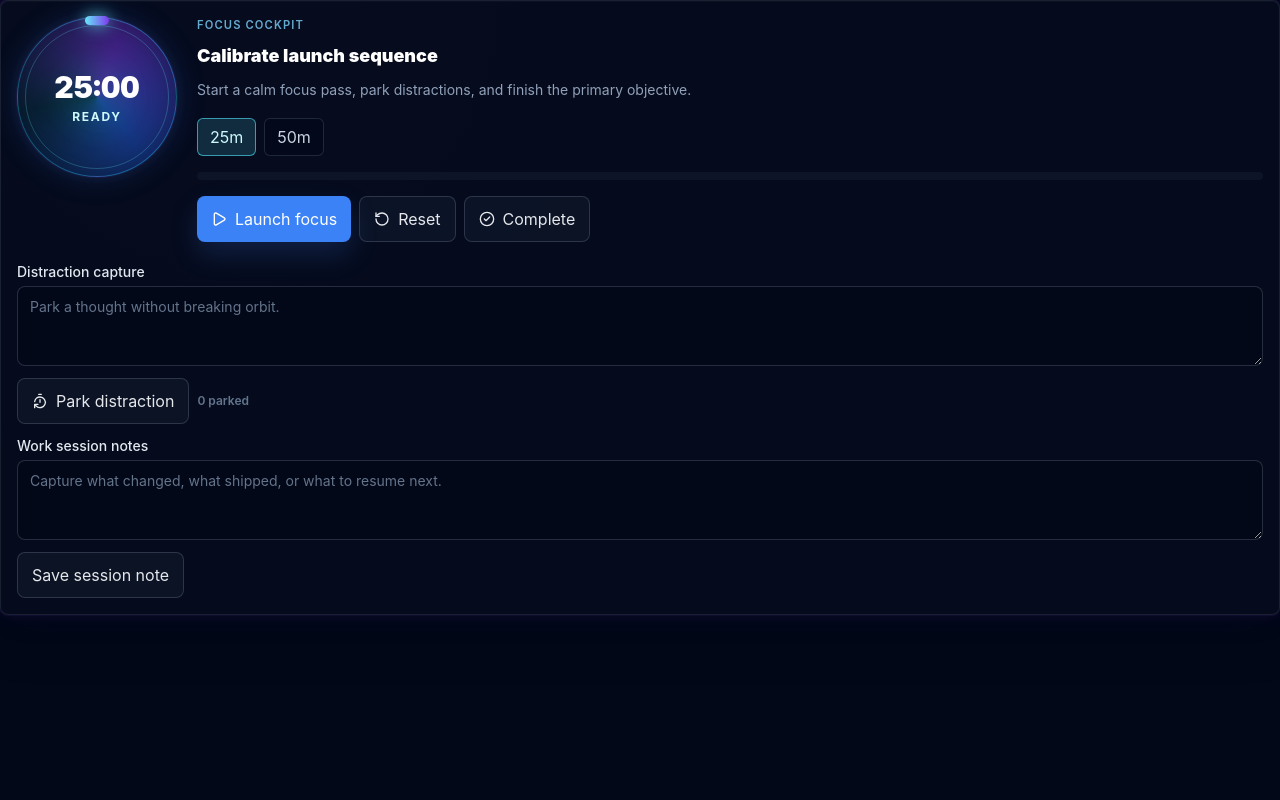
Test: FocusSessionPanel › captures distractions without leaving focus mode
The width and height of the screenshot is (1280, 800).
In the text box labelled "Distraction capture": (640, 326) [17,286,1263,366], type "Check deploy logs later"
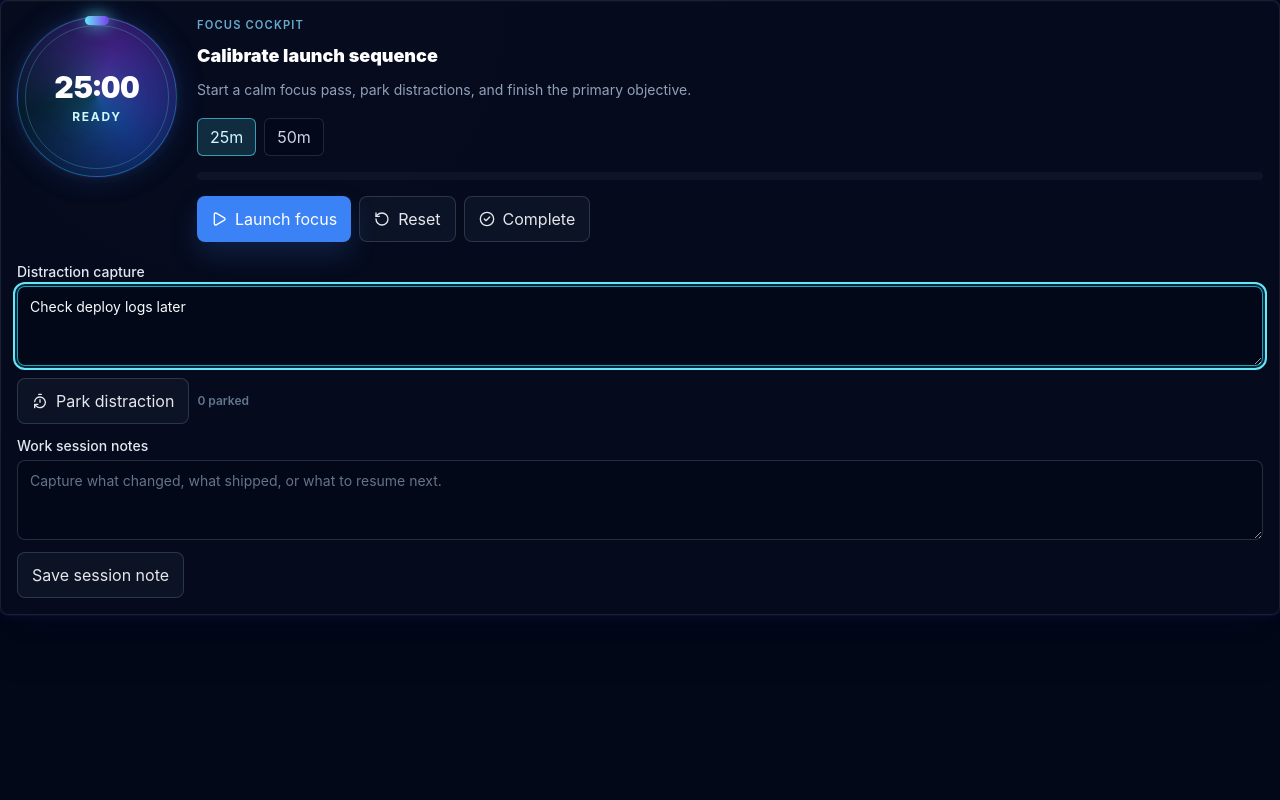
Click the button "Park distraction": click(103, 401) [17,378,189,424]
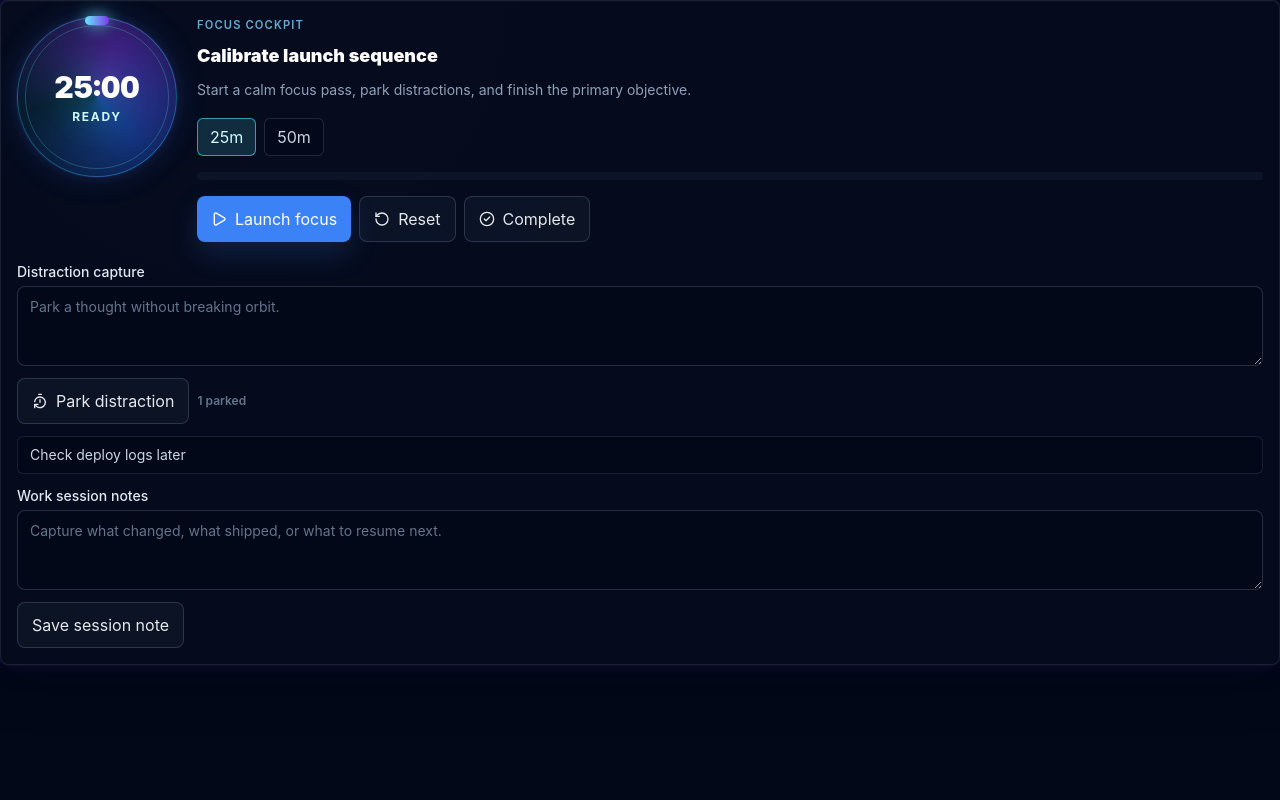
Expected: the list item "Check deploy logs later" is shown, [17,436,1263,474]
Expected: the text box labelled "Distraction capture" is empty, [17,286,1263,366]
